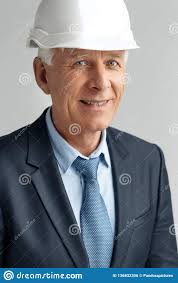Person_wearing_helmet: (20, 0, 145, 76)
